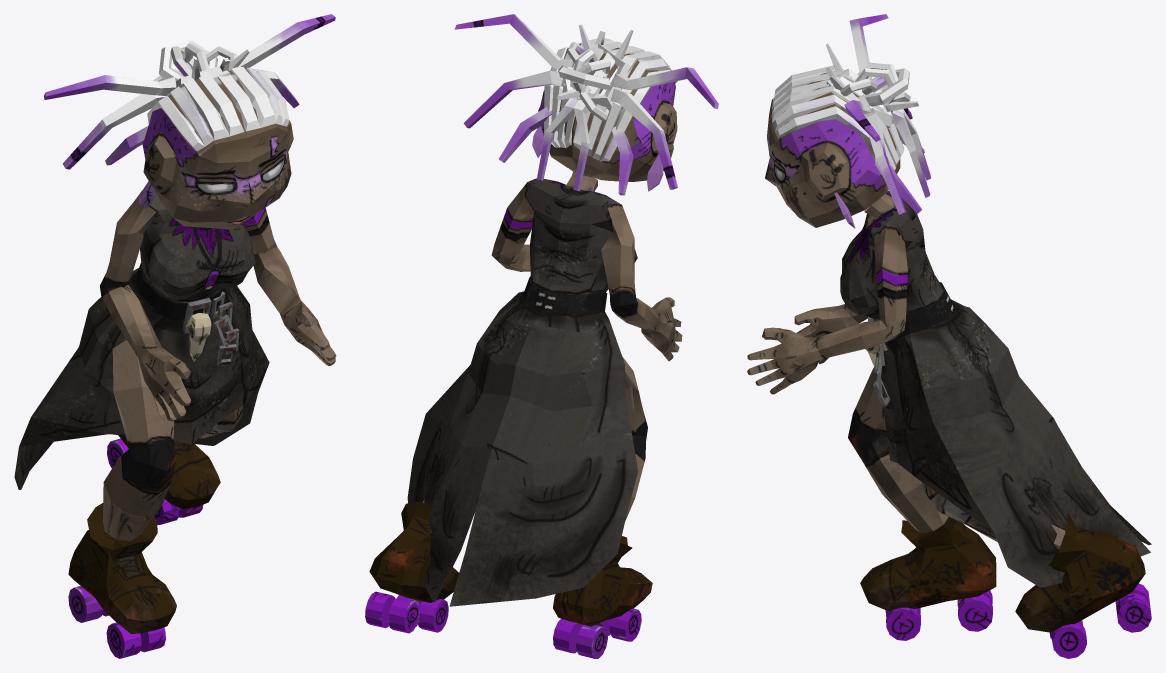
Rendered from bruja_000016.obj.
The picture shows the model from 3 angles, left to right: view 1: azimuth 30°, elevation 25°; view 2: azimuth 150°, elevation 25°; view 3: azimuth 270°, elevation 25°; orthographic projection. The views are drawn at different scales.
Parts seen in each view (by area): view 1: Bruja_Plane.001; view 2: Bruja_Plane.001; view 3: Bruja_Plane.001.
Part boxes in pixels (left/top/right/bottom): Bruja_Plane.001: left=14, top=14, right=336, bottom=658; Bruja_Plane.001: left=365, top=14, right=718, bottom=658; Bruja_Plane.001: left=747, top=14, right=1151, bottom=658.
Bounding box in the file's own units: 7.47 × 15.39 × 9.45.
